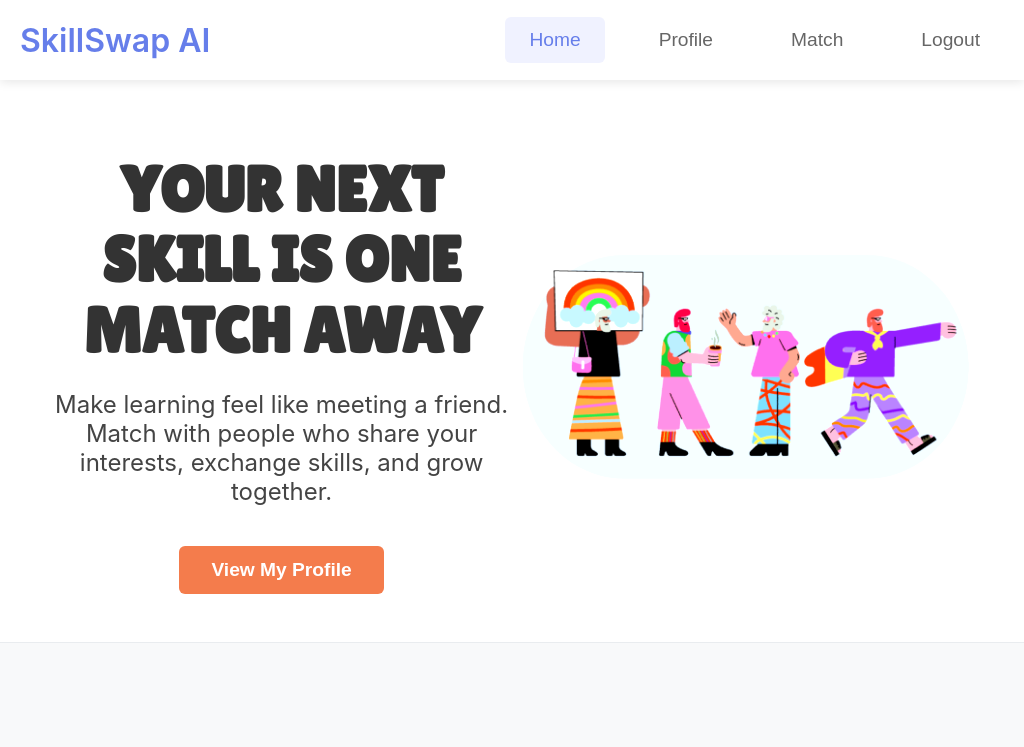
App Integration Tests › Profile Management Flow › should allow editing profile information
Note: Navigate to profile page
Click the button "Profile" at (686, 40), box [635,17,737,63]
(page scrolled)
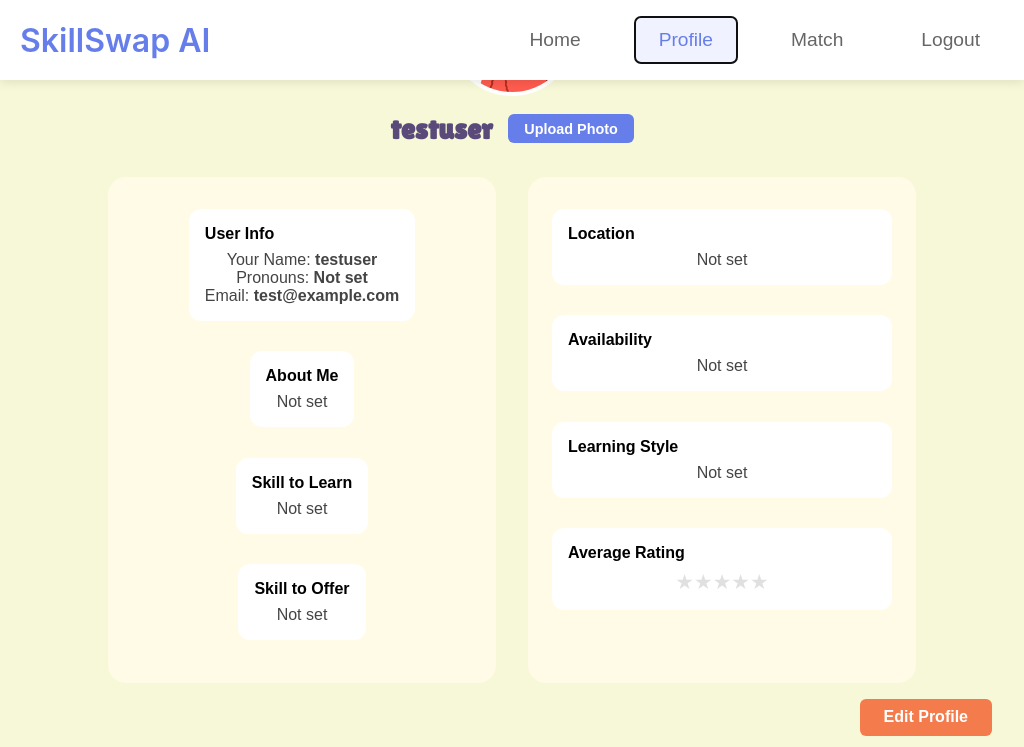
Expected: the heading "testuser" is shown, [390,112,492,145]
Note: Click edit profile button
Click the button "Edit Profile" at (926, 717), box [860,699,992,736]
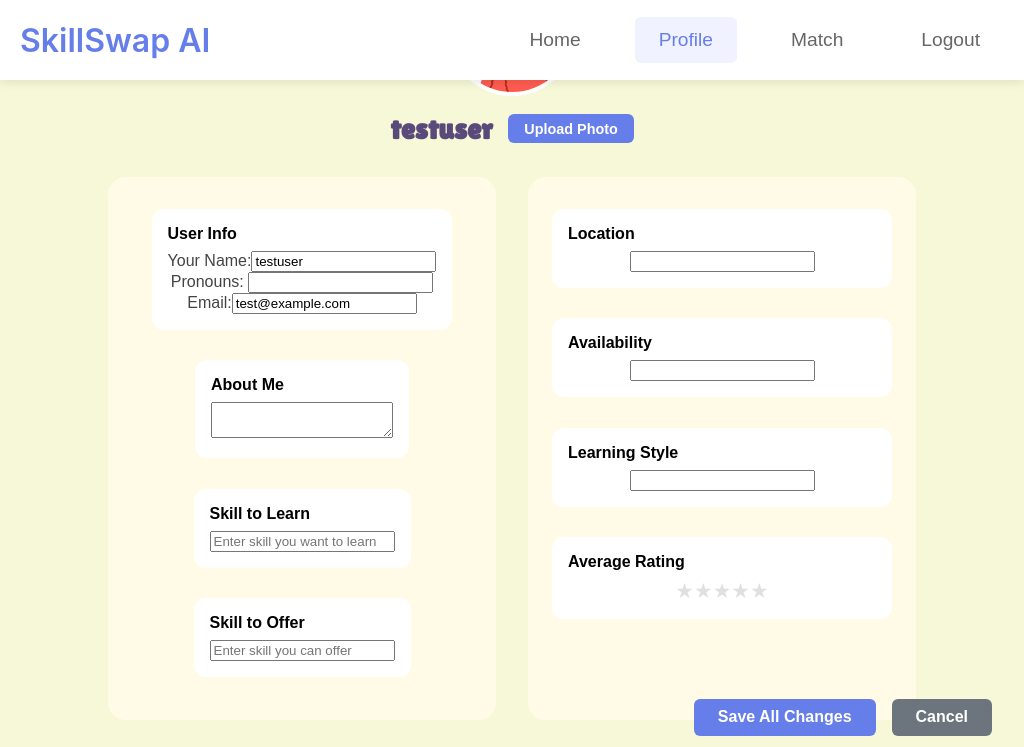
Expected: the field showing "testuser" next to "Your Name:" is shown
Expected: the field showing "test@example.com" next to "Email:" is shown, [232,293,417,314]
Note: Update username
Replace the text in the field showing "testuser" next to "Your Name:" with "updateduser" at (344, 262), box [252,251,436,272]
Note: Update email
Replace the text in the field showing "test@example.com" next to "Email:" with "updated@example.com" at (324, 304), box [232,293,417,314]
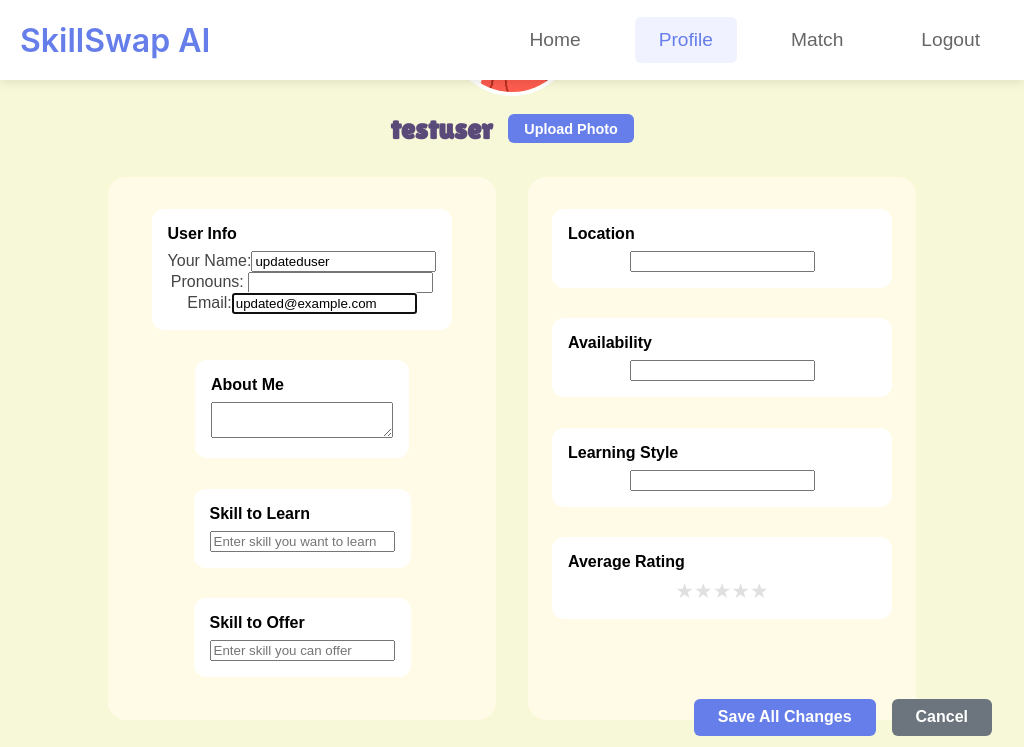
Note: Update skill to offer (input should be empty initially)
Type "React" into the field with placeholder "Enter skill you can offer" at (302, 651), box [210,640,394,661]
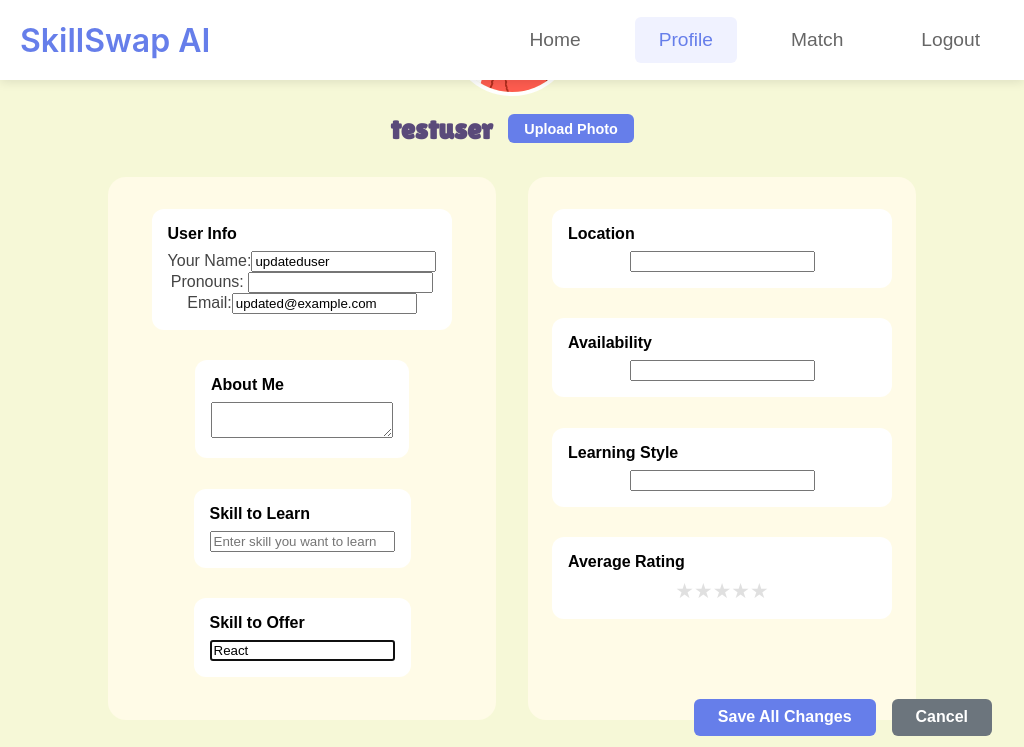
Note: Update skill to learn (input should be empty initially)
Type "Node.js" into the field with placeholder "Enter skill you want to learn" at (302, 541), box [210,531,394,552]
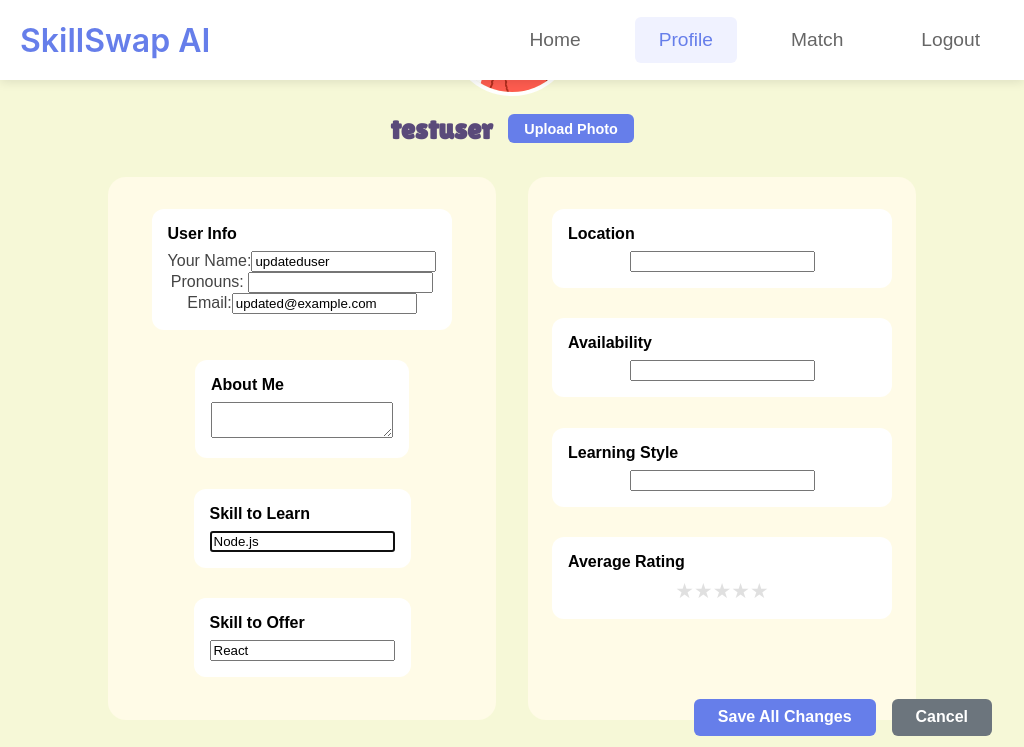
Note: Save changes
Click the button "Save All Changes" at (785, 717), box [694,699,876,736]
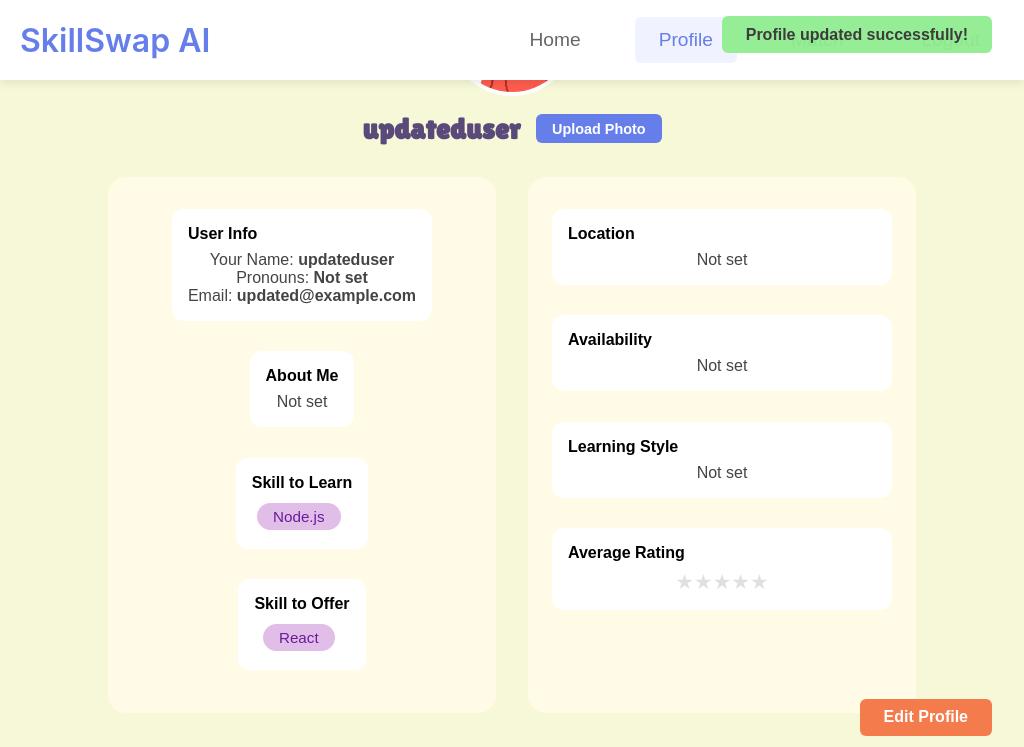
Expected: the text "Profile updated successfully!" is shown, [722,16,992,53]
